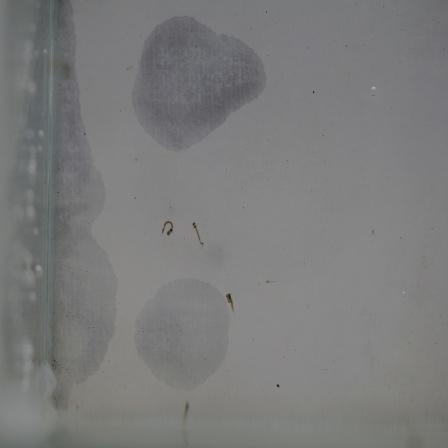Jentik-Nyamuk: (186, 218, 209, 252), (223, 289, 241, 319), (159, 216, 179, 239)
